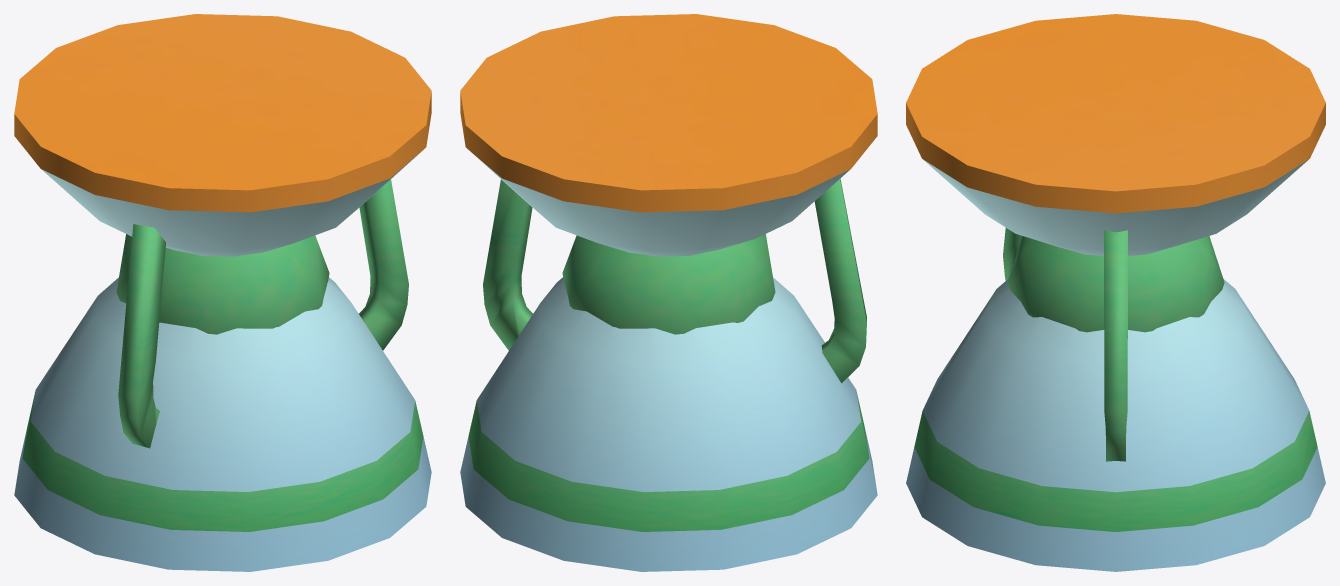
Rendered from Engine 2.fbx.
3 renders of one model, left to right at view 1: azimuth 30°, elevation 25°; view 2: azimuth 150°, elevation 25°; view 3: azimuth 270°, elevation 25°, orthographic.
Parts seen in each view (by area): view 1: Engine 2; view 2: Engine 2; view 3: Engine 2.
Boxes of the visible parts, left/top/right/bottom form: Engine 2: left=14, top=14, right=431, bottom=571; Engine 2: left=460, top=14, right=877, bottom=571; Engine 2: left=906, top=14, right=1325, bottom=571.
Size of the model in its own units: 100 by 100 by 100.
